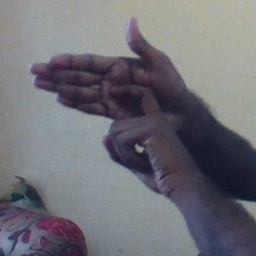R: (31, 15, 187, 169)
